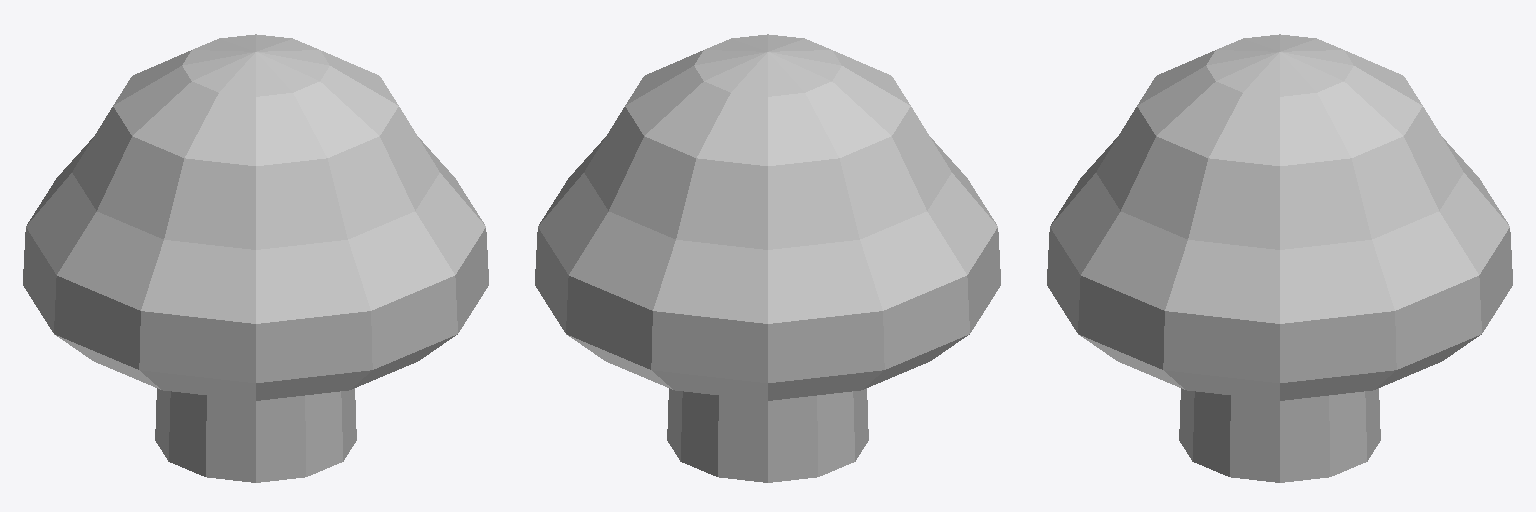
Rendered from Mushroom_Red_Spotted.obj.
3 renders of one model, left to right at view 1: azimuth 30°, elevation 25°; view 2: azimuth 150°, elevation 25°; view 3: azimuth 270°, elevation 25°, orthographic.
Visible parts, largest first — view 1: Sphere.020_Sphere.028; view 2: Sphere.020_Sphere.028; view 3: Sphere.020_Sphere.028.
Boxes of the visible parts, x1,y1,x2,y2 form: Sphere.020_Sphere.028: [23, 34, 488, 482]; Sphere.020_Sphere.028: [535, 34, 1000, 482]; Sphere.020_Sphere.028: [1047, 34, 1512, 482].
Size of the model in its own units: 0.1974 by 0.1905 by 0.1974.